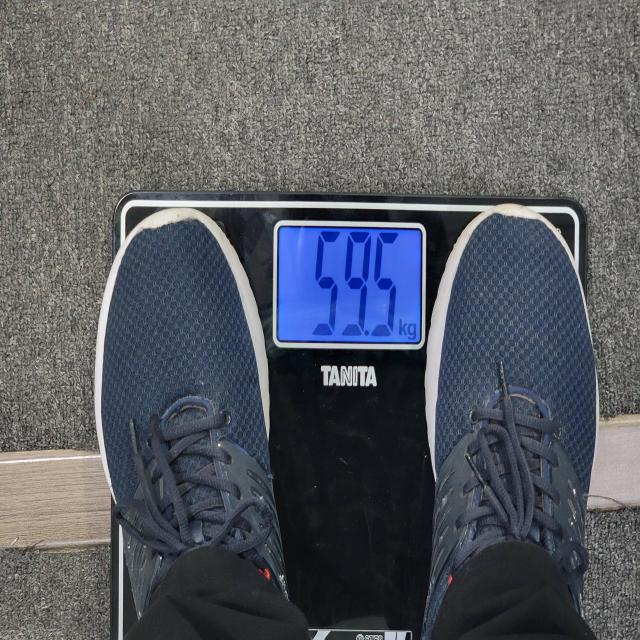ws: (92, 192, 599, 640)
